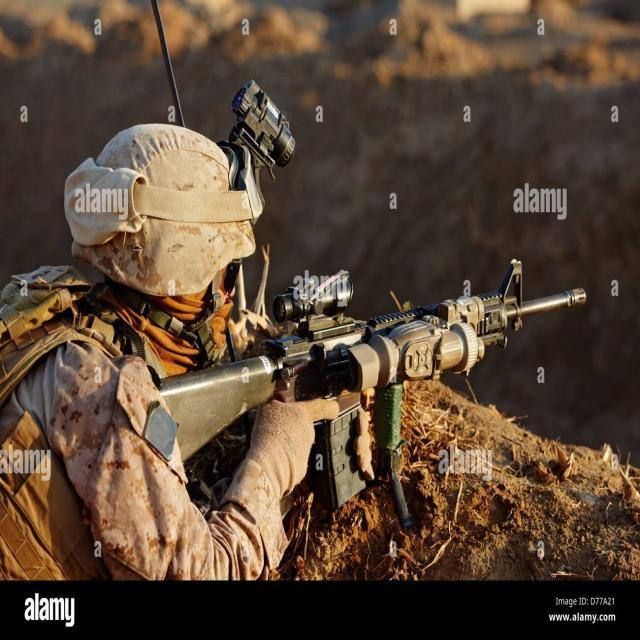m16: (21, 63, 617, 556)
